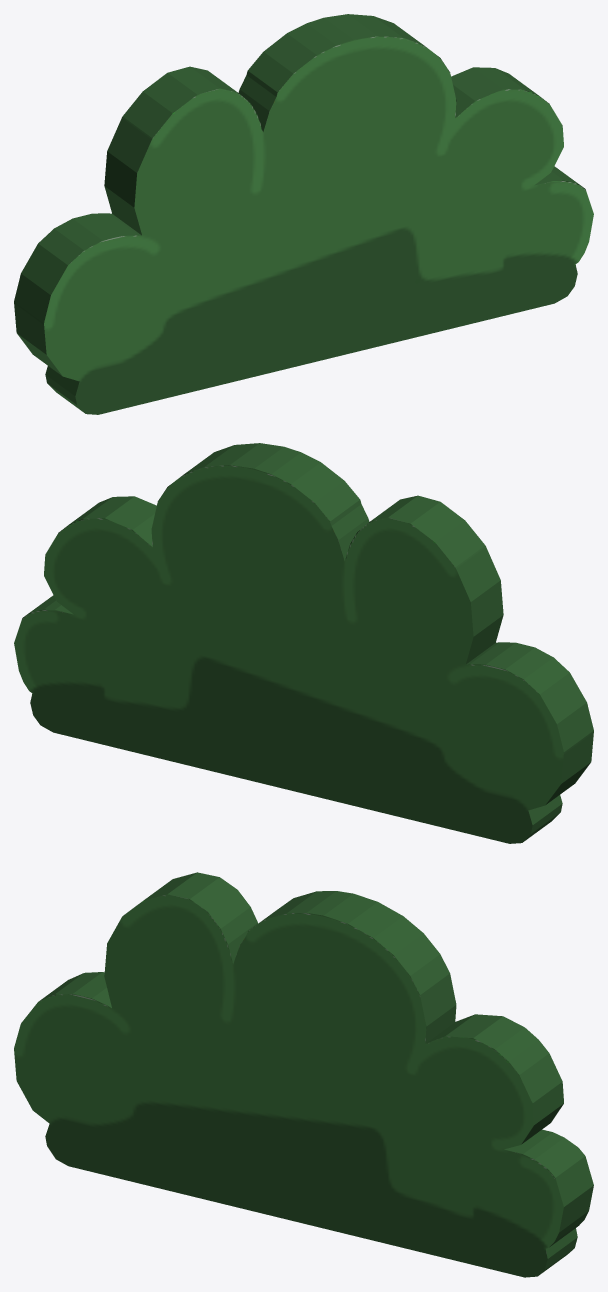
Rendered from GrassTuft08.fbx.
3 renders of one model, top to bottom at view 1: azimuth 30°, elevation 25°; view 2: azimuth 150°, elevation 25°; view 3: azimuth 330°, elevation 25°, orthographic.
Visible parts, largest first — view 1: Grass08; view 2: Grass08; view 3: Grass08.
Boxes of the visible parts, <box> form: Grass08: <box>14,14,593,414</box>; Grass08: <box>14,443,593,843</box>; Grass08: <box>14,872,593,1277</box>.
Size of the model in its own units: 0.5023 by 0.2731 by 0.0475.
